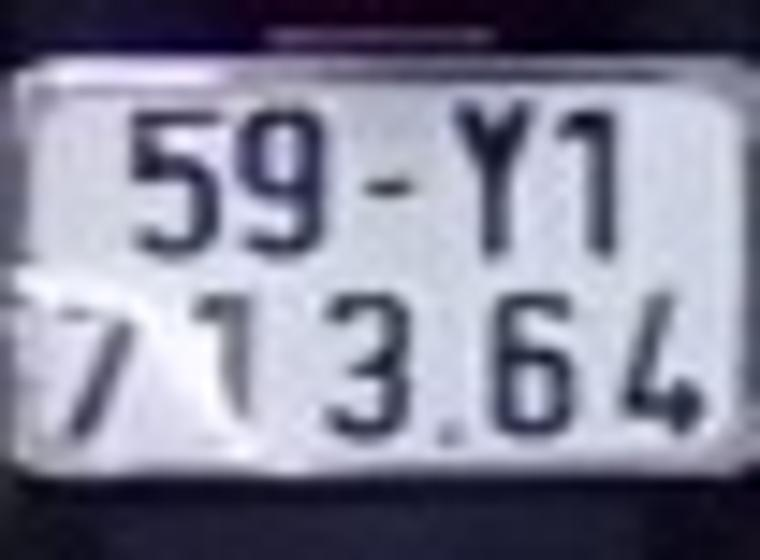-: (352, 174, 422, 201)
.: (438, 406, 472, 449)
1: (557, 99, 628, 269), (186, 287, 261, 442)
3: (313, 282, 422, 441)
4: (616, 291, 712, 442)
5: (123, 102, 225, 262)
6: (487, 288, 585, 445)
7: (54, 280, 150, 449)
9: (238, 104, 325, 265)
Y: (446, 89, 547, 263)
